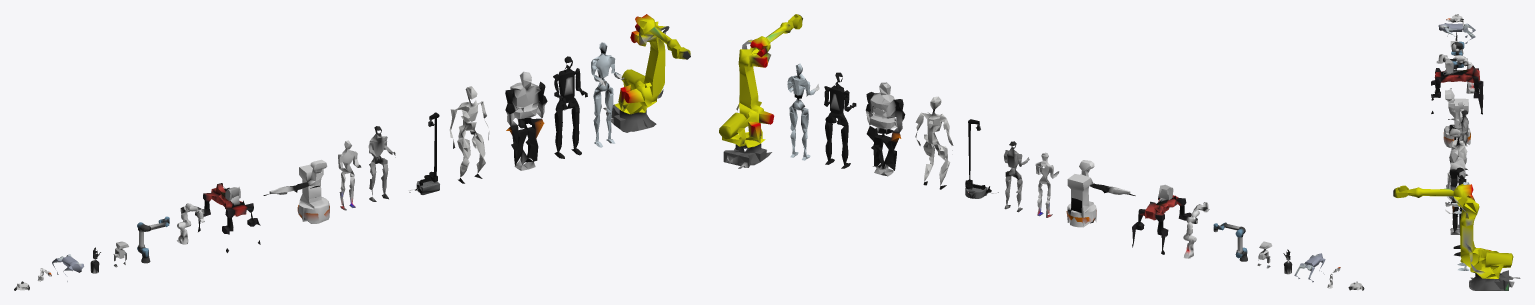
The model's file is lineup-noamber.l2.glb.
3 views of the same model, side by side, from view 1: azimuth 30°, elevation 25°; view 2: azimuth 150°, elevation 25°; view 3: azimuth 270°, elevation 25° (orthographic). The views are drawn at different scales.
Parts seen in each view (by area): view 1: lineup__l2; view 2: lineup__l2; view 3: lineup__l2.
Part boxes in pixels (<box>): lineup__l2: <box>14,14,690,290</box>; lineup__l2: <box>719,14,1364,290</box>; lineup__l2: <box>1393,14,1520,290</box>.
Bounding box in the file's own units: 12.58 × 2.11 × 2.44.
